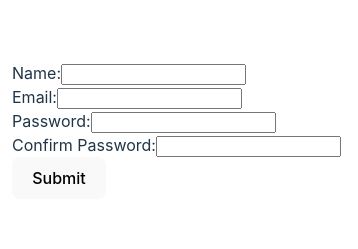
UserRegistrationForm › displays error message for password length less than 6 characters
Step 1. Type "pass" into the password field labelled "Password:" → (183, 123), box [91,112,276,133]
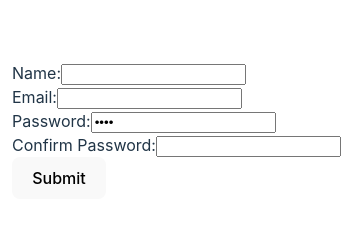
Step 2. Click the button "Submit" → (59, 178), box [12,157,106,199]
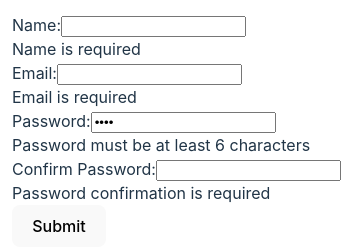
Check: the text "Password must be at least 6 characters" is shown, box [12,133,341,157]
